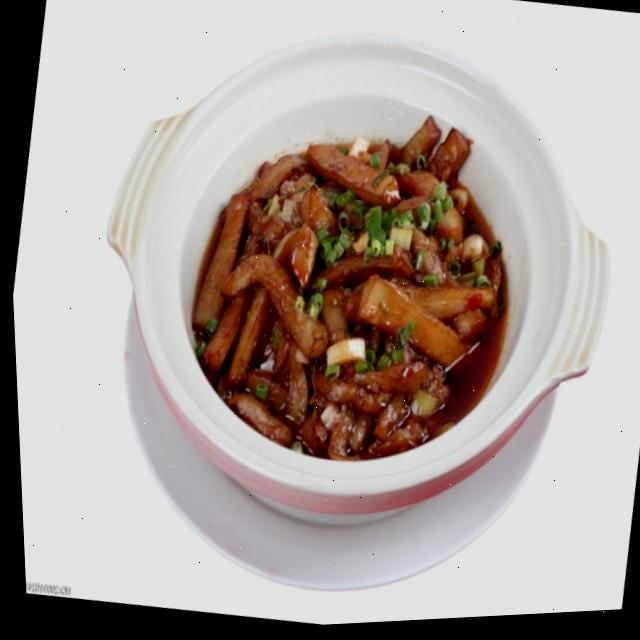鸡蛋料理: (77, 0, 640, 555)
